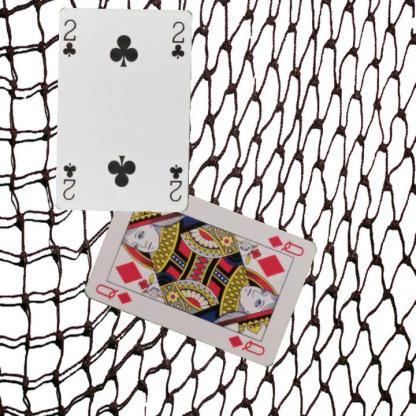2c: (166, 162, 184, 204), (60, 16, 78, 58)
Qd: (259, 232, 305, 260), (92, 281, 133, 306)
